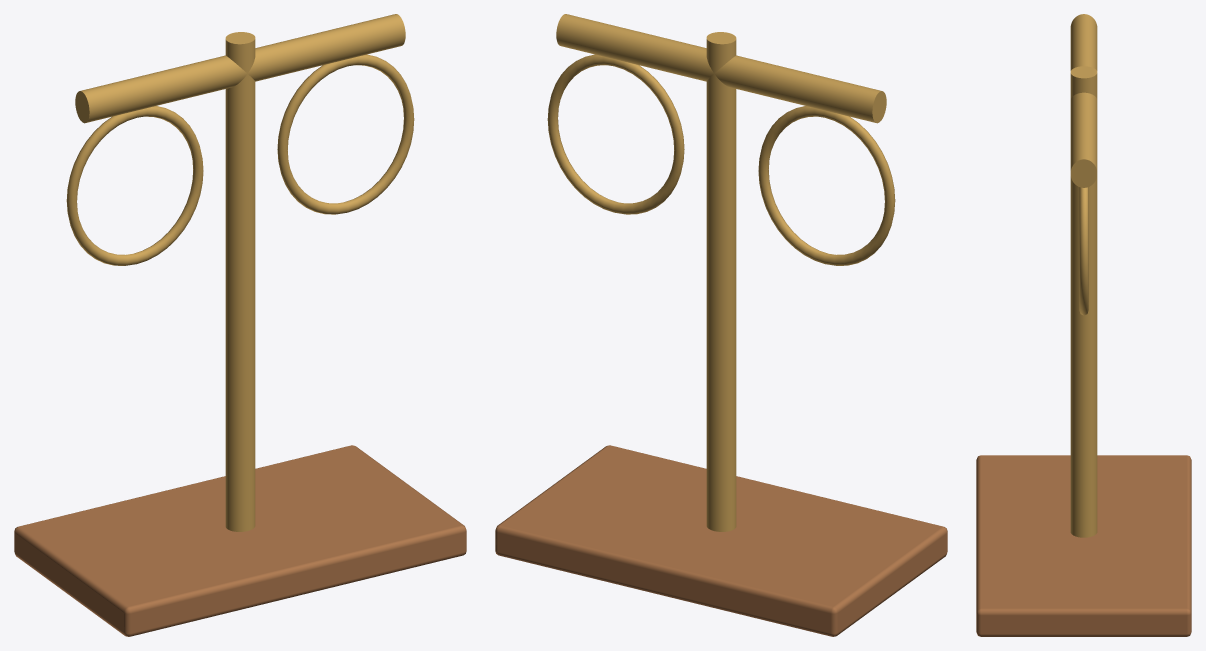
The model's file is wp-presentoir-a-bijoux.glb.
3 renders of one model, left to right at view 1: azimuth 30°, elevation 25°; view 2: azimuth 150°, elevation 25°; view 3: azimuth 270°, elevation 25°, orthographic. The views are drawn at different scales.
Parts seen in each view (by area): view 1: wp-presentoir-a-bijoux; view 2: wp-presentoir-a-bijoux; view 3: wp-presentoir-a-bijoux.
Part boxes in pixels (bbox=[...]): wp-presentoir-a-bijoux: bbox=[14, 14, 466, 636]; wp-presentoir-a-bijoux: bbox=[495, 14, 947, 636]; wp-presentoir-a-bijoux: bbox=[976, 14, 1191, 636].
Bounding box in the file's own units: 0.35 × 0.5 × 0.2.
